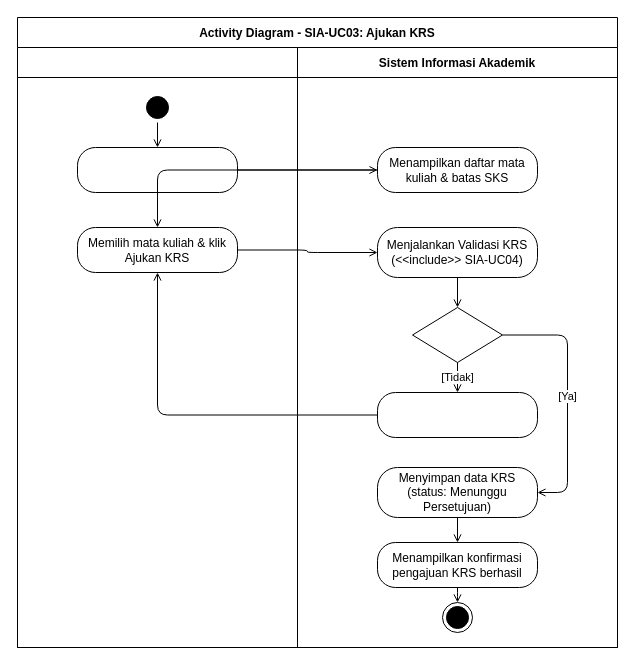
Image size: 635x665. Some labels were removed from this diagram. Each missing label, with the box of its shape:
KRS valid?: (412, 306, 502, 362)
Mahasiswa: (16, 46, 298, 648)
Membuka menu Pengajuan KRS: (76, 146, 238, 192)
Menampilkan pesan kesalahan validasi KRS: (376, 392, 538, 438)
